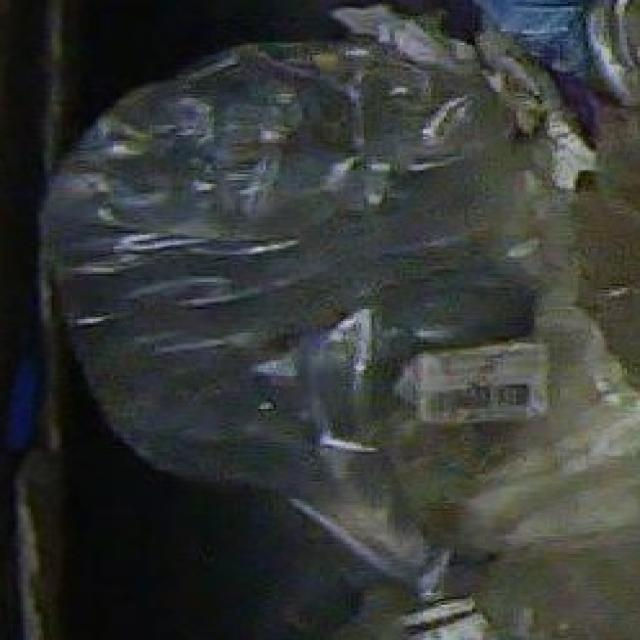plasticbottle: (54, 15, 565, 640)
